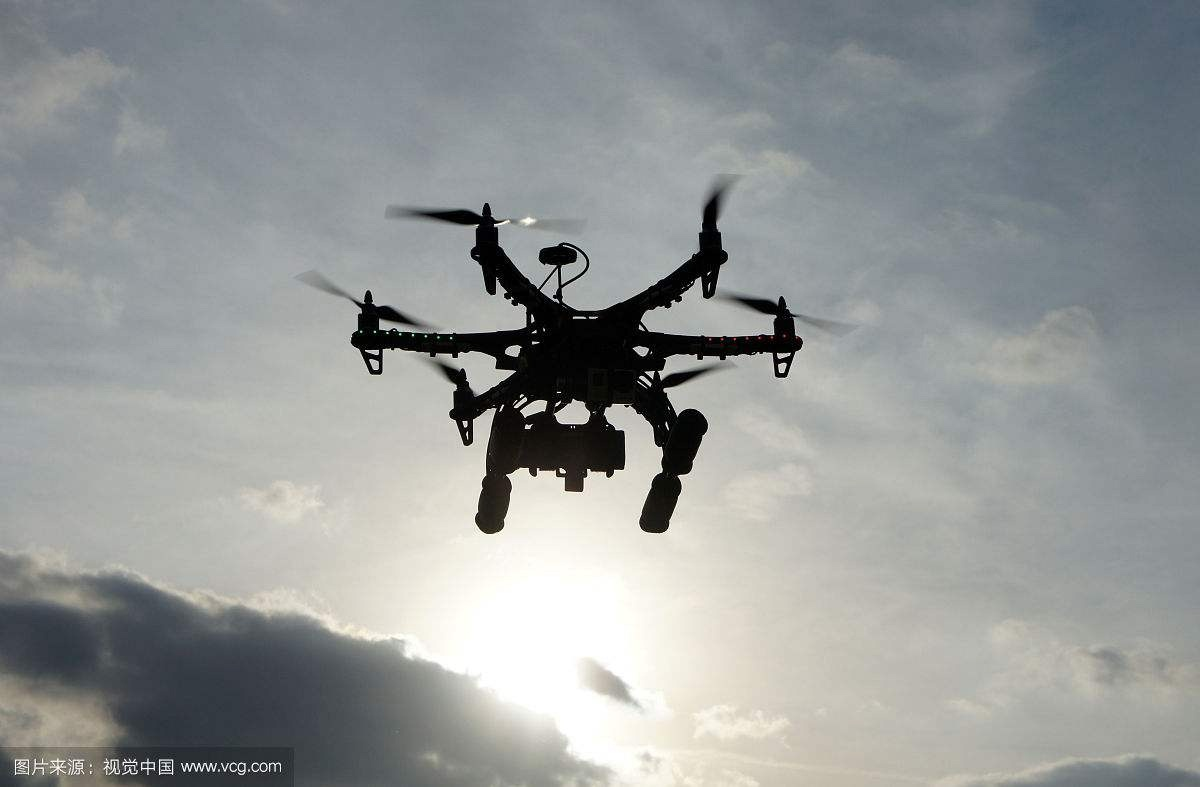DJI: (350, 201, 807, 548)
